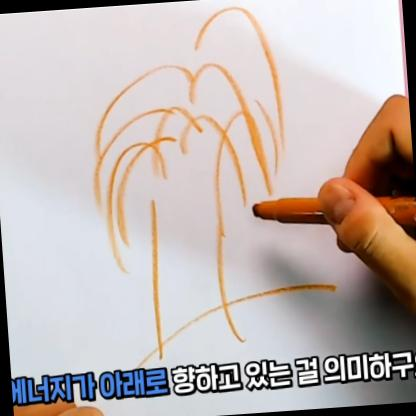crown_dizzy: (75, 3, 288, 206)
root_none: (144, 275, 250, 360)
trunk_straight: (140, 210, 232, 299)
